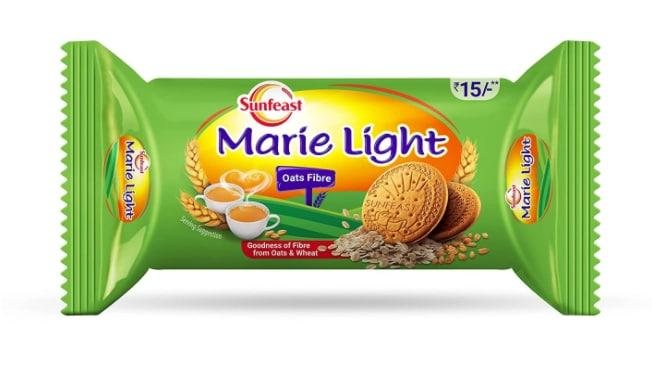MarieLight: (59, 36, 601, 319)
